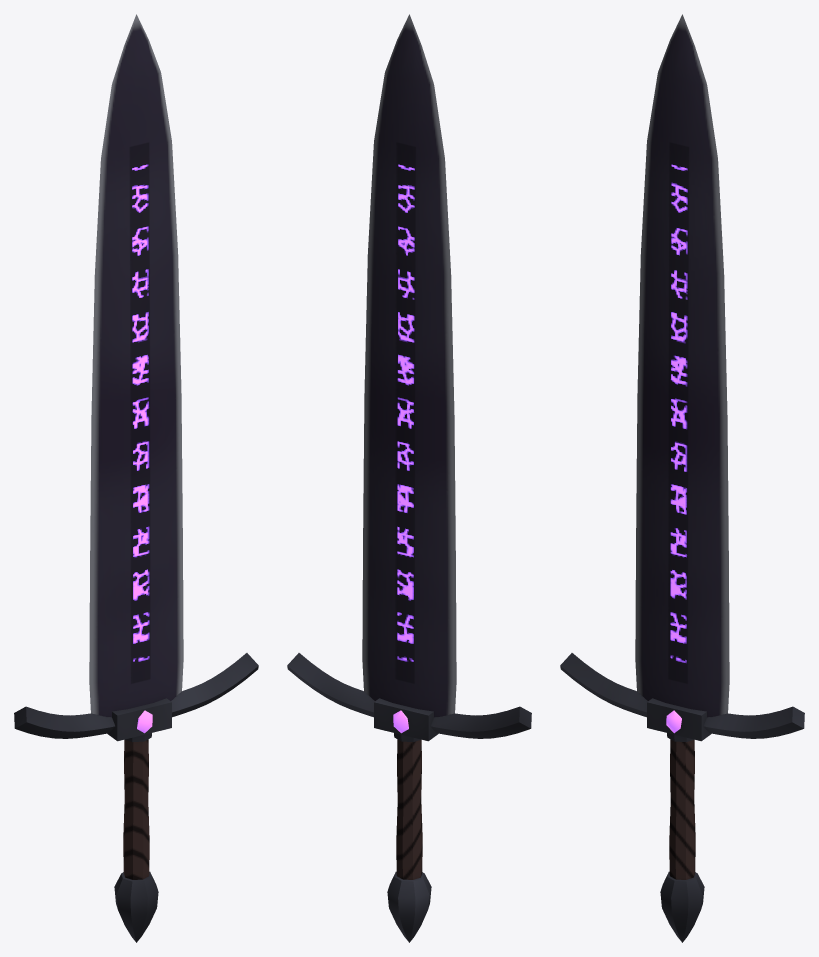
Rendered from espada.glb.
3 renders of one model, left to right at view 1: azimuth 30°, elevation 25°; view 2: azimuth 150°, elevation 25°; view 3: azimuth 330°, elevation 25°, orthographic.
Parts seen in each view (by area): view 1: espada; view 2: espada; view 3: espada.
Boxes of the visible parts, x1,y1,x2,y2 form: espada: (14, 14, 258, 942); espada: (287, 14, 531, 942); espada: (560, 14, 804, 942).
Size of the model in its own units: 0.3565 by 1.3 by 0.058.
1 material, 1 textured.
